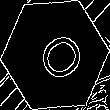O_SW: (25, 22, 85, 88)
